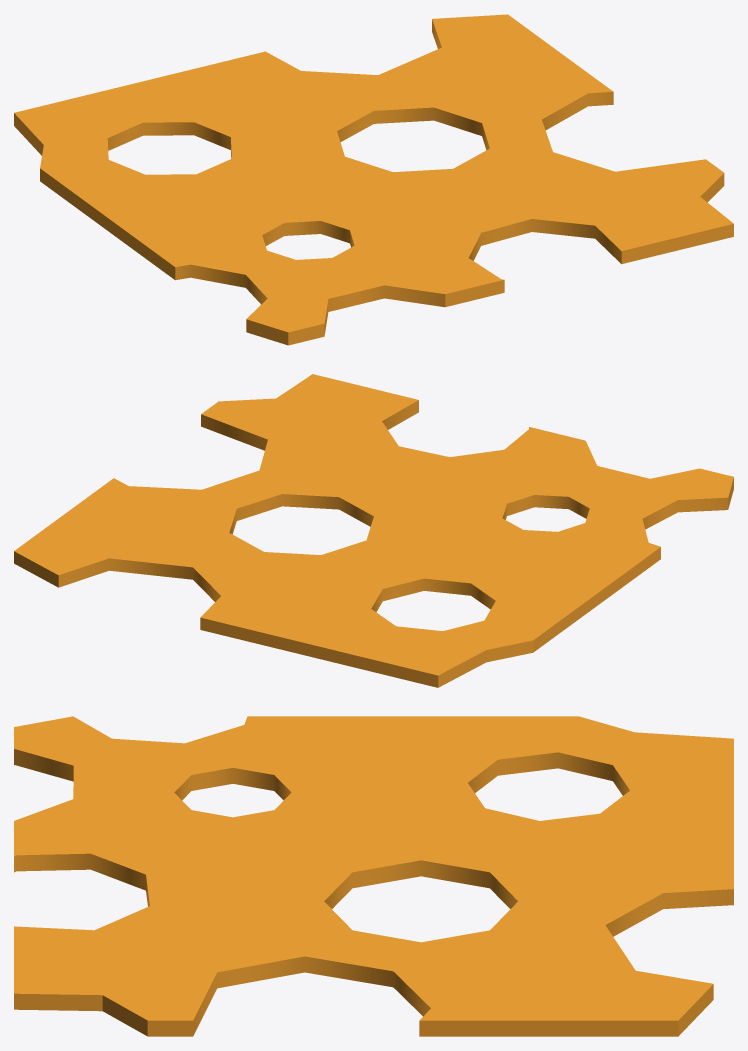
The model's file is Food_CheeseSlice.fbx.
3 views of the same model, one above another, from view 1: azimuth 30°, elevation 25°; view 2: azimuth 150°, elevation 25°; view 3: azimuth 270°, elevation 25° (orthographic). The views are drawn at different scales.
Visible parts, largest first — view 1: Food_CheeseSlice; view 2: Food_CheeseSlice; view 3: Food_CheeseSlice.
Boxes of the visible parts, x1,y1,x2,y2 form: Food_CheeseSlice: (14, 14, 733, 345); Food_CheeseSlice: (14, 374, 733, 687); Food_CheeseSlice: (14, 716, 733, 1036).
Size of the model in its own units: 18.55 by 0.4555 by 18.55.
